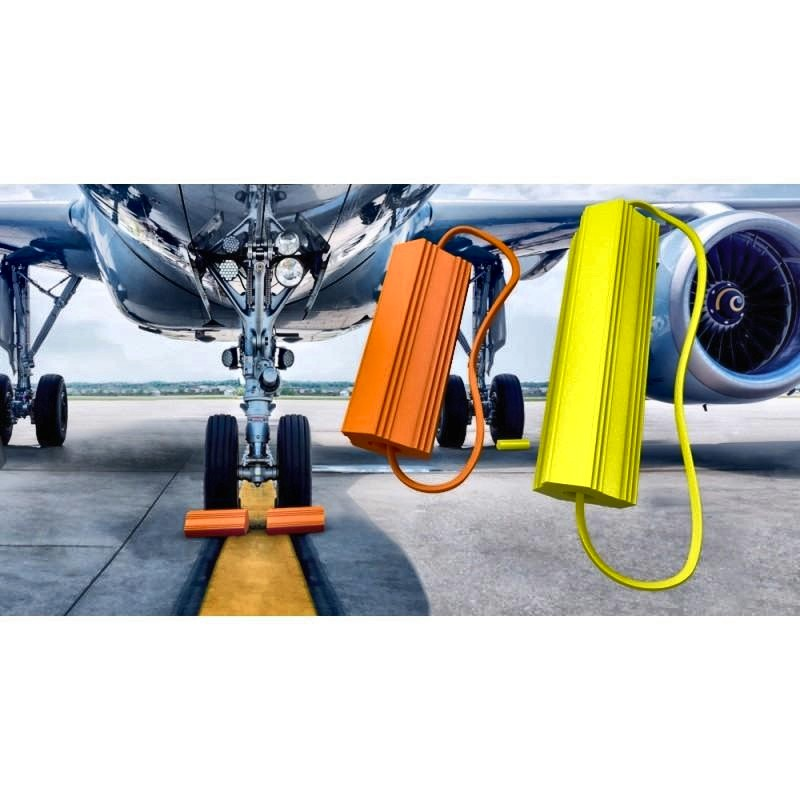chock: (533, 201, 662, 514), (337, 240, 474, 463), (181, 506, 252, 539), (263, 506, 328, 533), (494, 437, 532, 451)
wheel: (203, 414, 239, 510), (276, 414, 312, 508), (33, 372, 69, 447), (488, 371, 523, 444), (435, 372, 468, 446), (0, 373, 14, 445)
